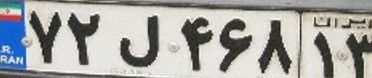character: (113, 8, 163, 71), (64, 6, 107, 70), (178, 12, 216, 75), (217, 11, 253, 75), (257, 15, 294, 77), (27, 7, 64, 68), (343, 31, 372, 78), (311, 32, 338, 78)
